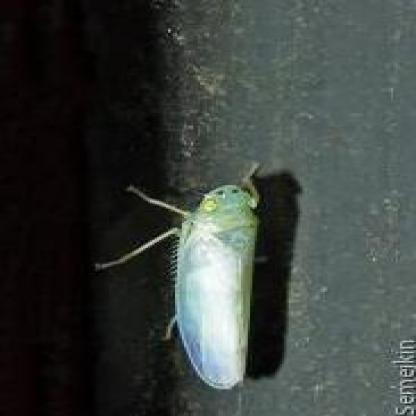Green-Leafhopper: (92, 166, 294, 389)
